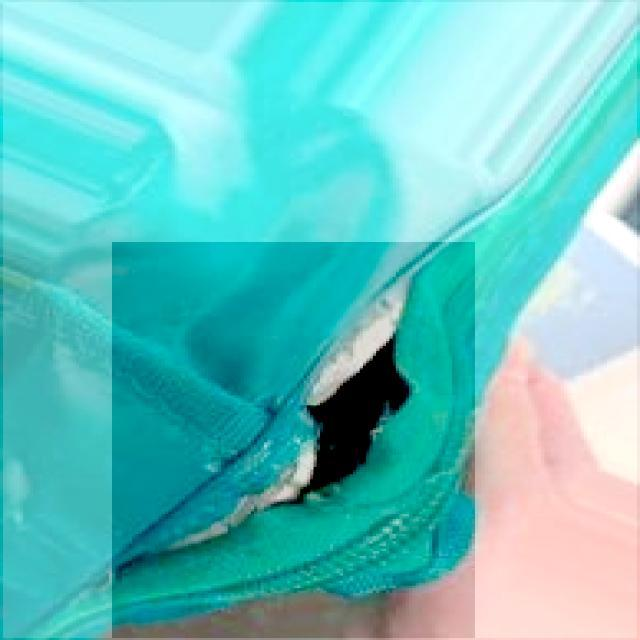Damage-bag: (115, 250, 434, 569)
